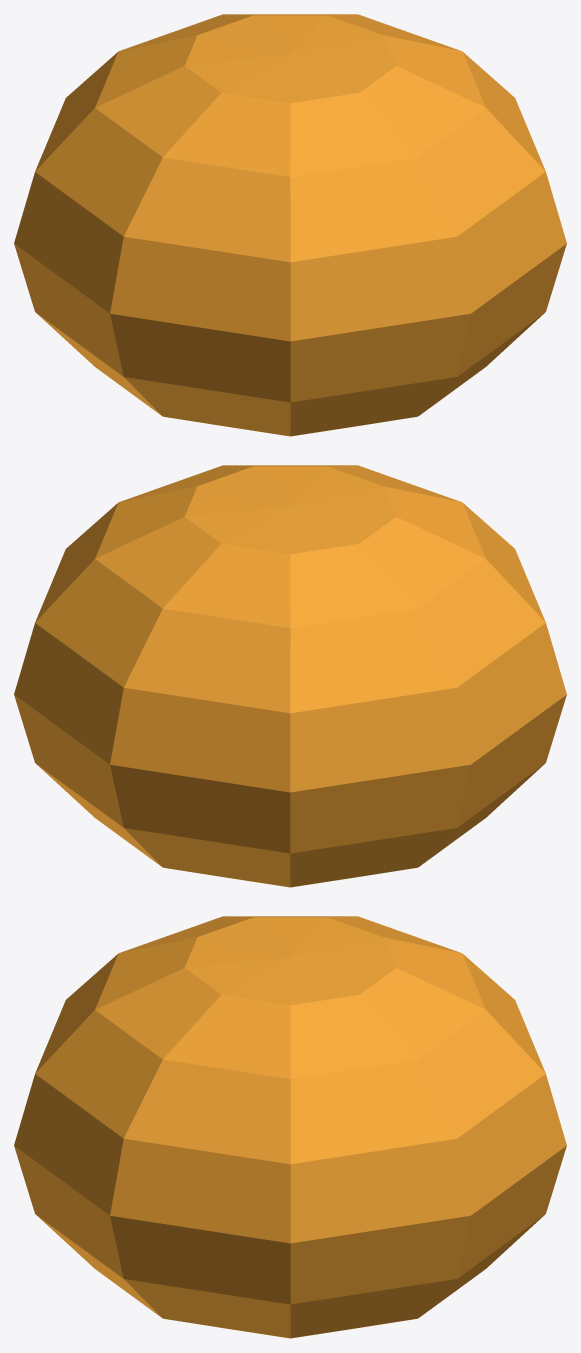
File: Food_Tangerine.obj
3 renders of one model, top to bottom at view 1: azimuth 30°, elevation 25°; view 2: azimuth 150°, elevation 25°; view 3: azimuth 270°, elevation 25°, orthographic.
Bounding box in the file's own units: 1.94 × 1.35 × 1.97.
